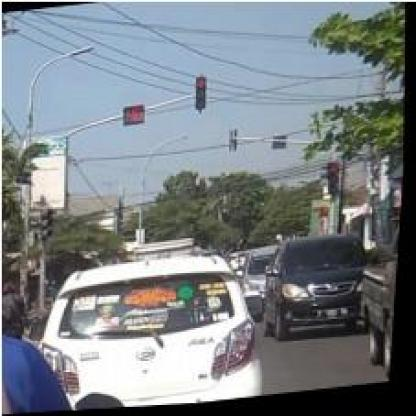red: (193, 76, 207, 111), (326, 168, 341, 199)
